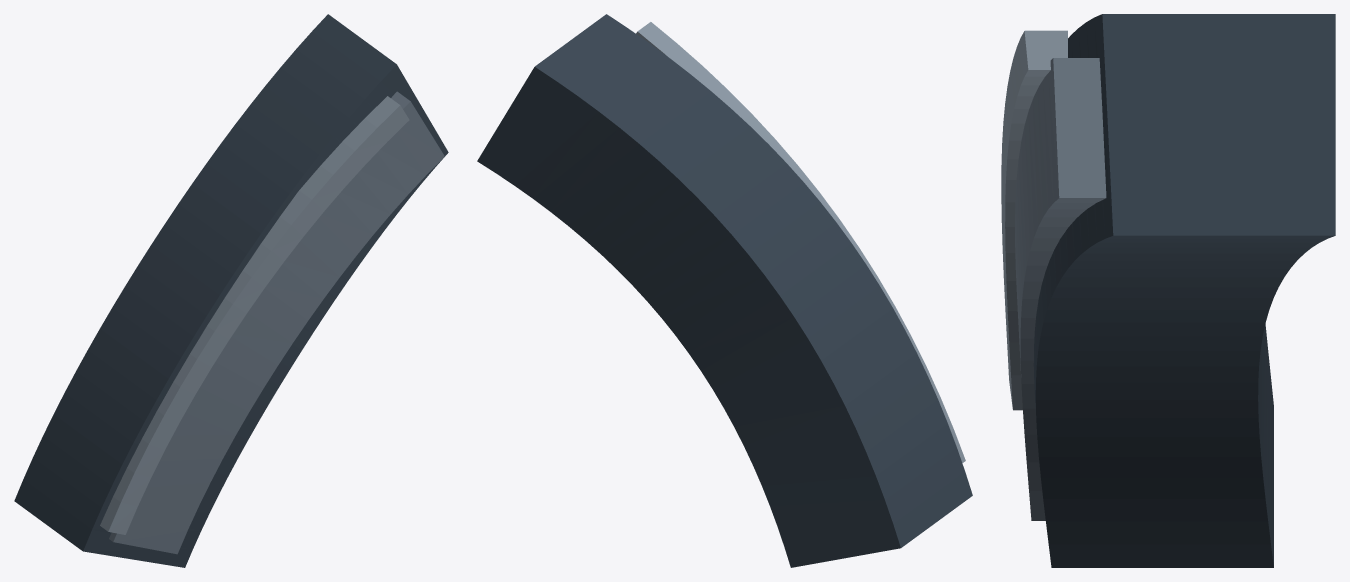
File: ev_core_r10dp_mid_nw.glb
3 renders of one model, left to right at view 1: azimuth 30°, elevation 25°; view 2: azimuth 150°, elevation 25°; view 3: azimuth 270°, elevation 25°, orthographic. The views are drawn at different scales.
Visible parts, largest first — view 1: mid_nw_body, mid_nw_inset, mid_nw_edge; view 2: mid_nw_body, mid_nw_edge; view 3: mid_nw_body, mid_nw_inset, mid_nw_edge.
Part boxes in pixels (box(x1,y1,x2,y2)): mid_nw_body: box(14, 14, 448, 567); mid_nw_inset: box(109, 91, 444, 554); mid_nw_edge: box(100, 96, 409, 534); mid_nw_body: box(477, 14, 972, 567); mid_nw_edge: box(636, 22, 965, 462); mid_nw_body: box(1033, 14, 1335, 567); mid_nw_inset: box(1015, 58, 1106, 520); mid_nw_edge: box(1001, 30, 1067, 410).
Size of the model in its own units: 61.37 by 66.24 by 27.07.
